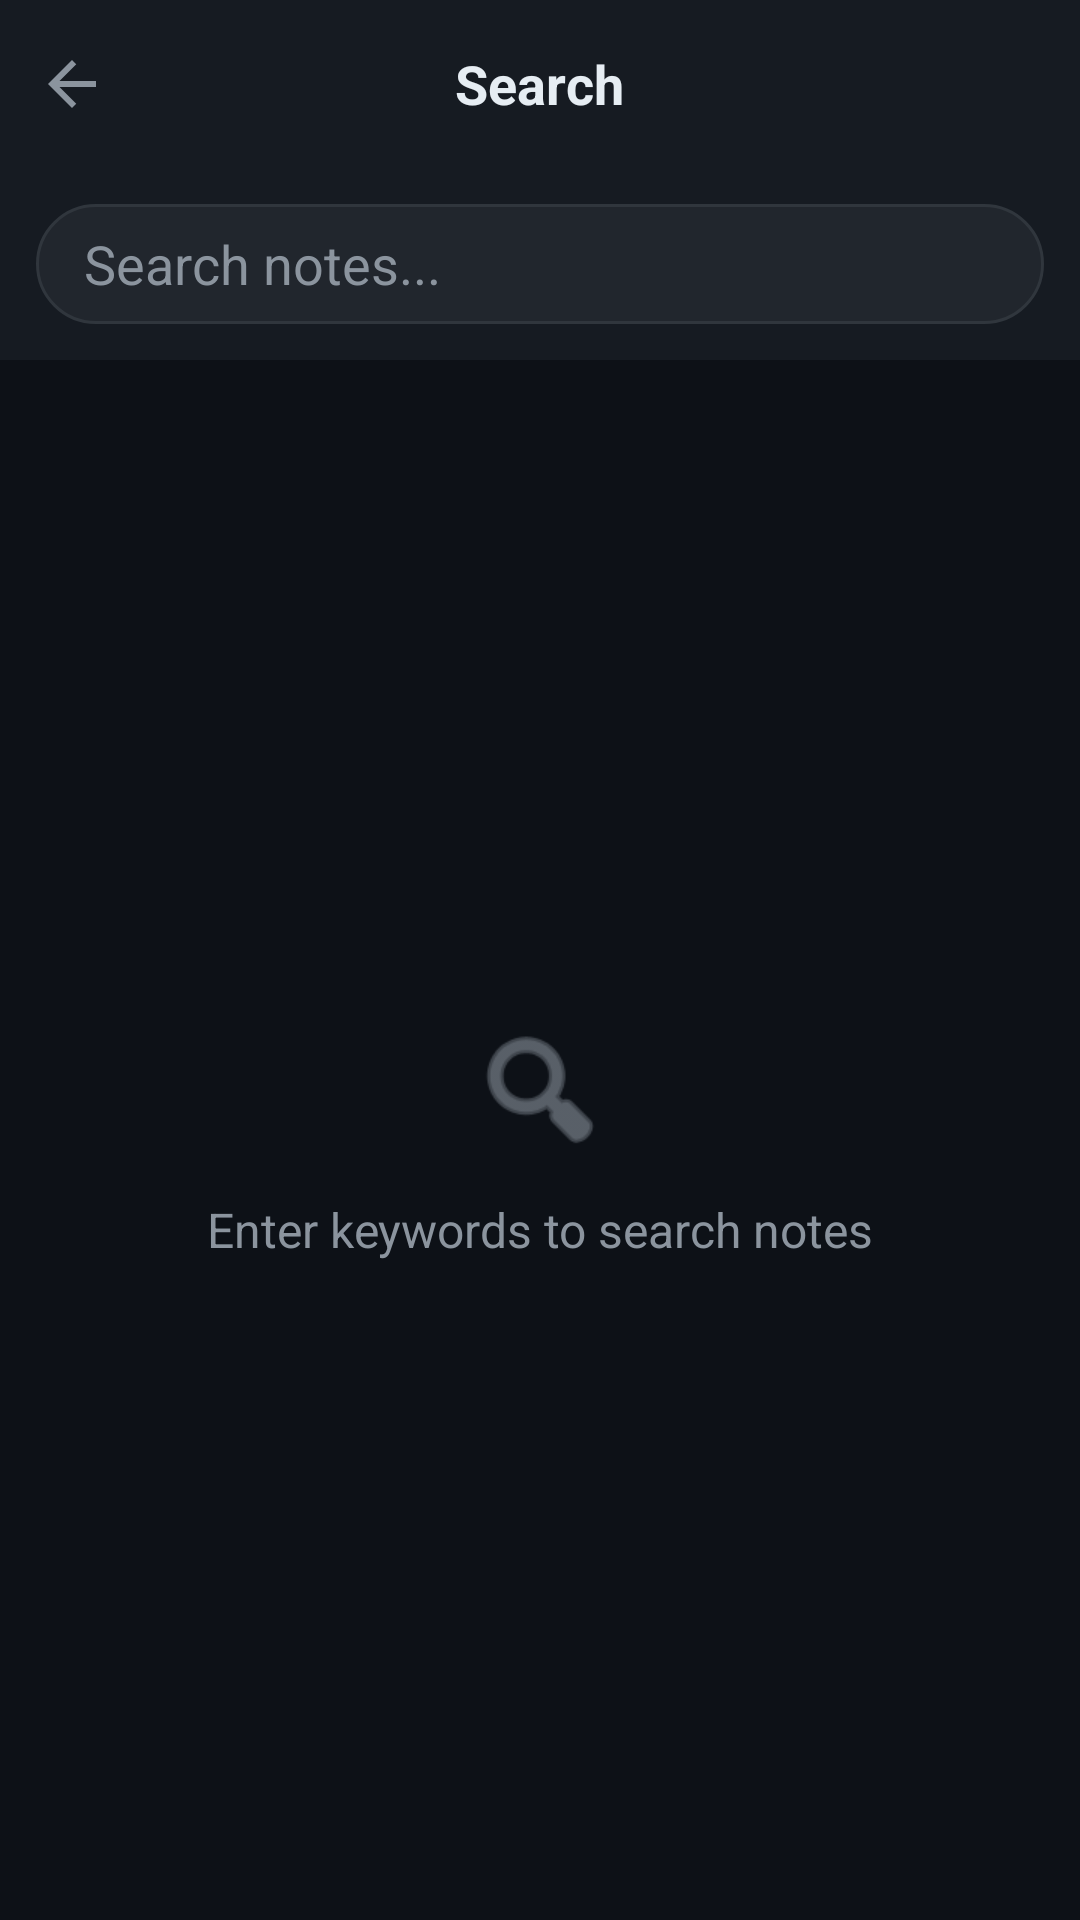

Locate icon controls on the screen. Image size 1080px x 1920px, boxes as (x1, y1, x2, y2).
Back: (48, 60, 96, 108)
